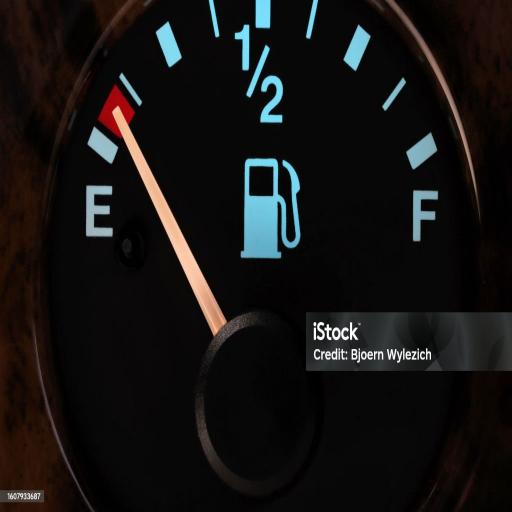empty: (80, 180, 116, 242)
fuel_icon: (237, 154, 303, 264)
full: (412, 188, 440, 246)
guage_area: (31, 0, 489, 512)
needle_center: (193, 311, 325, 498)
needle_tip: (111, 103, 129, 127)
